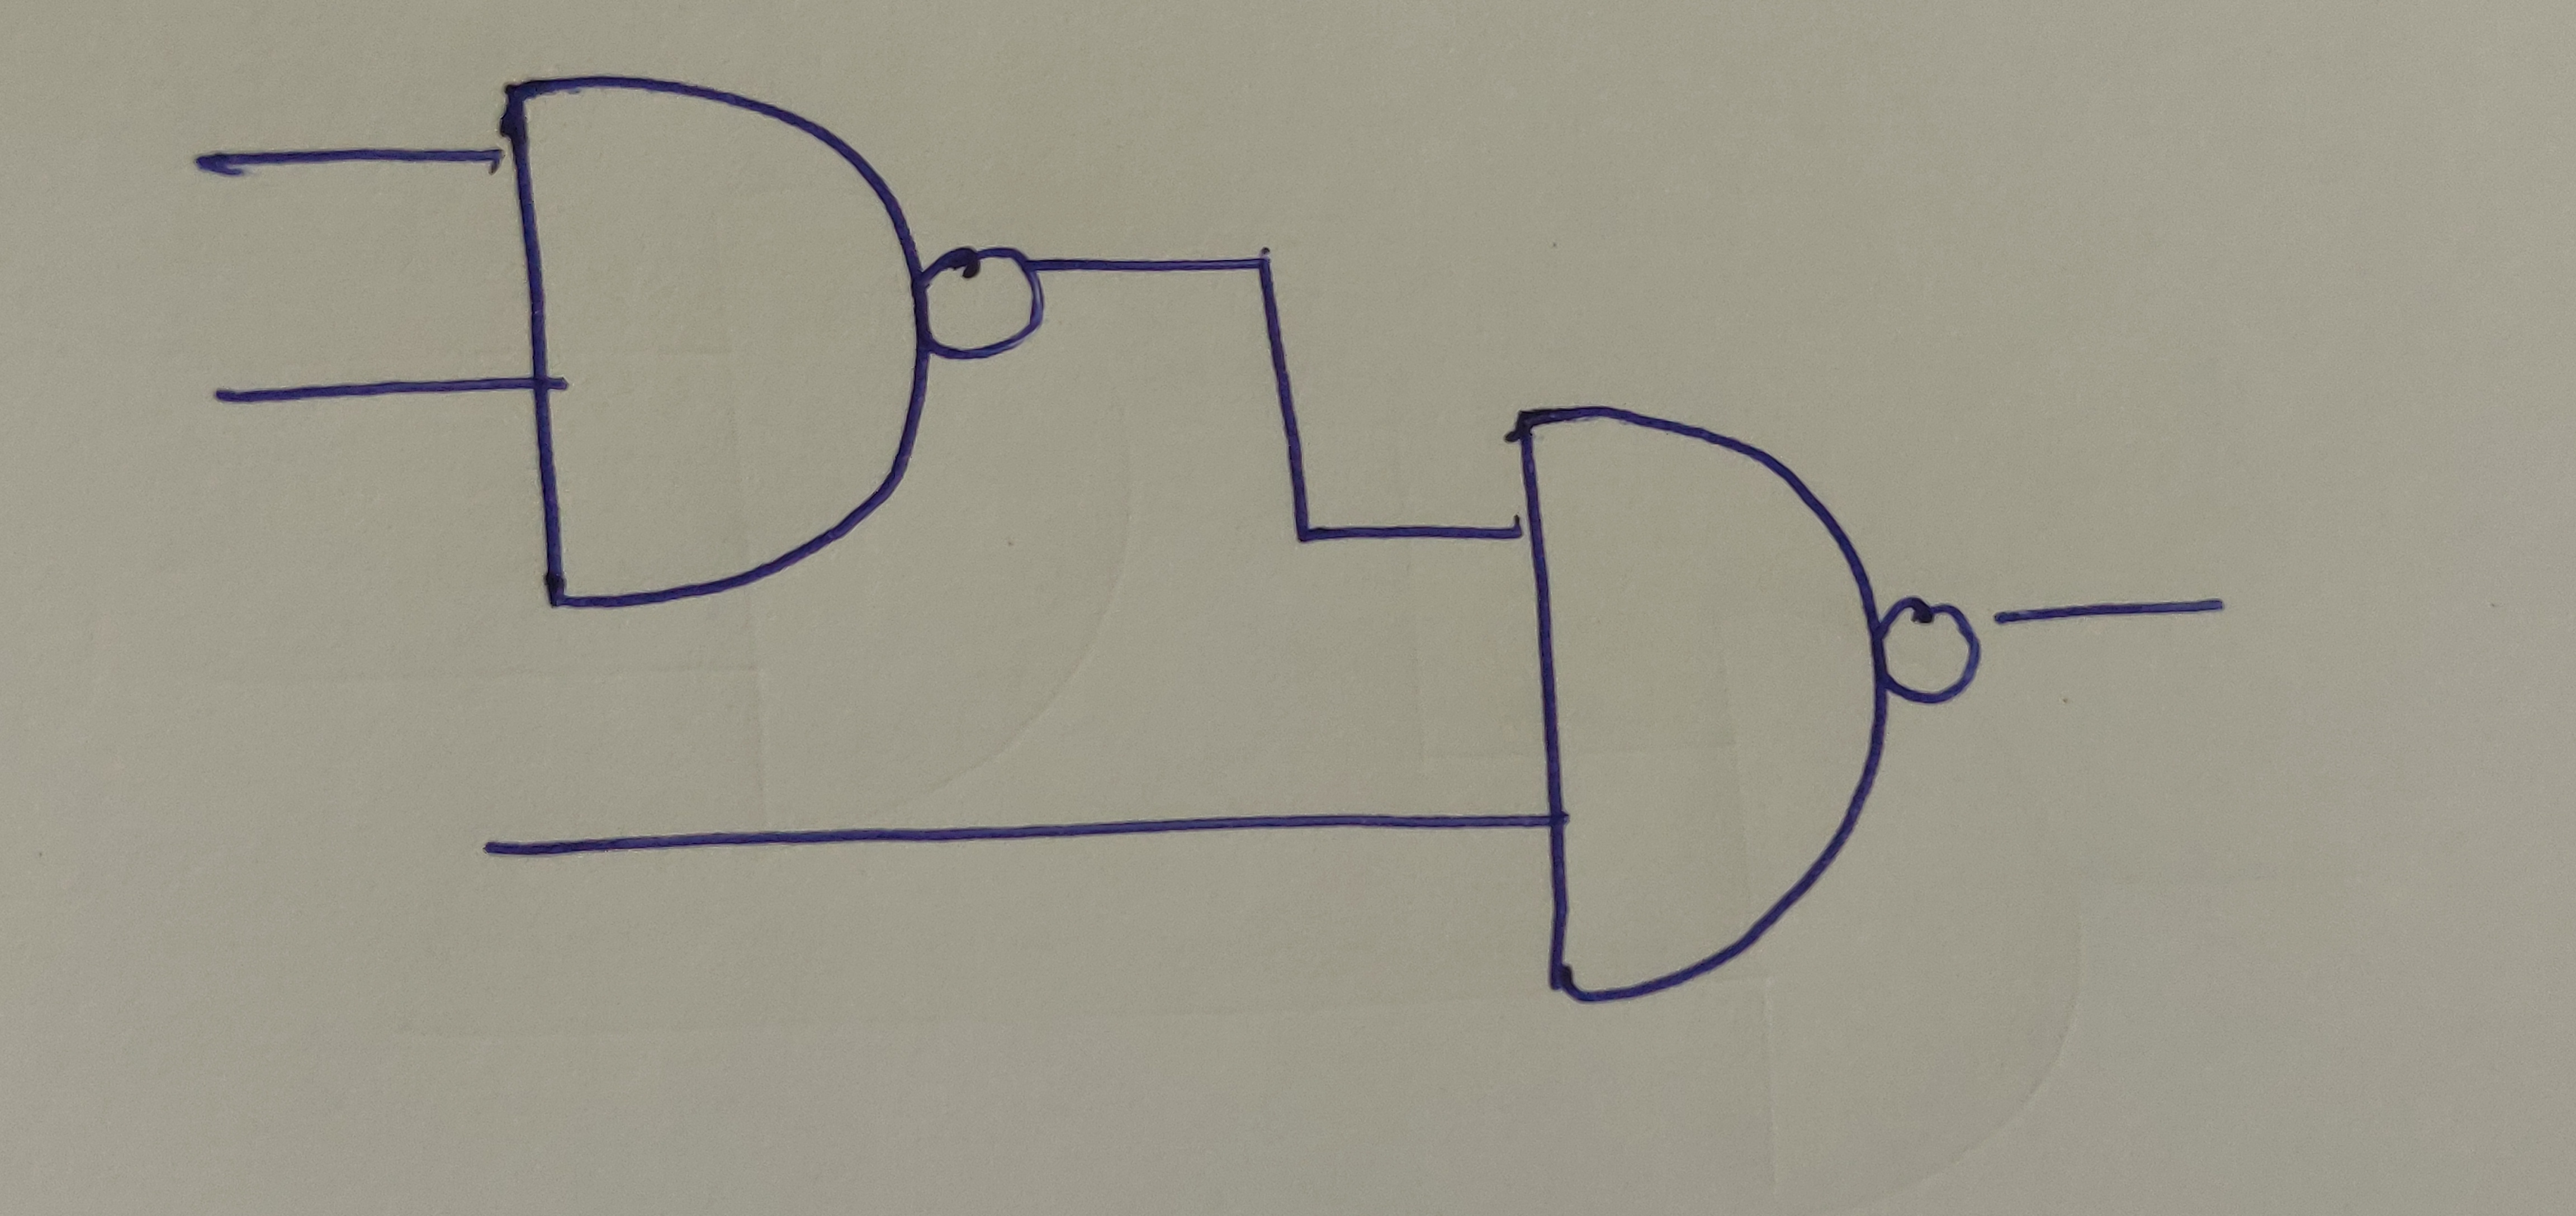and: (1510, 401, 1889, 1001), (503, 82, 920, 600)
not: (927, 233, 1050, 365), (1879, 593, 1983, 708)
